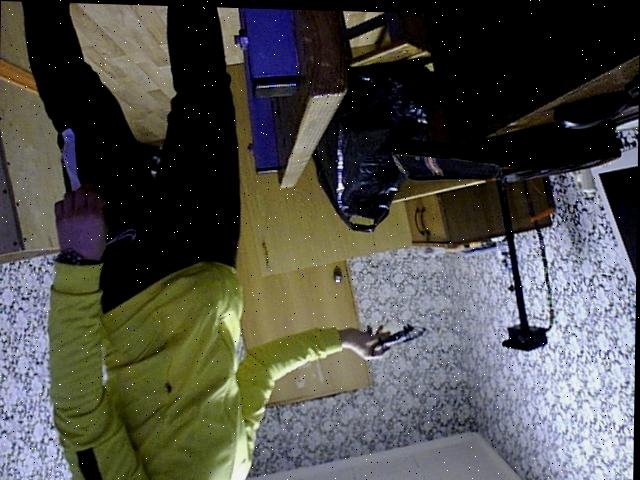drone: (356, 318, 428, 362)
